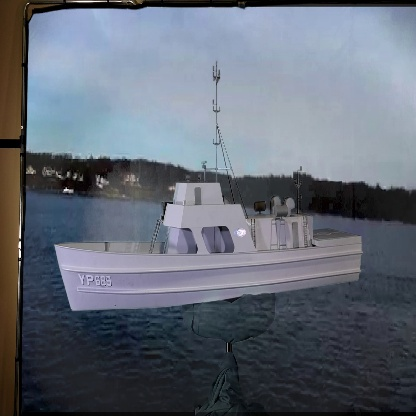YP689: (55, 67, 363, 313)
